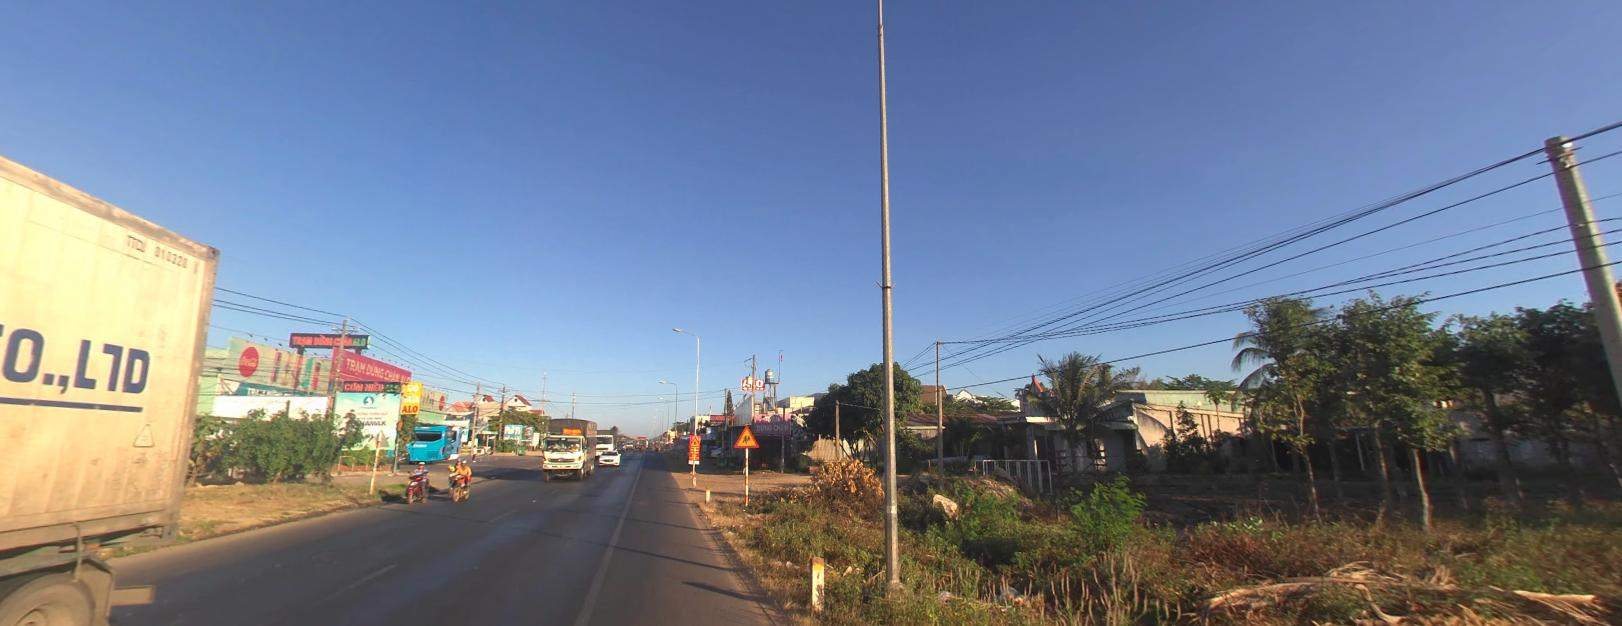Nguy hiem: (732, 423, 760, 448), (732, 422, 759, 447), (735, 425, 759, 447), (688, 435, 700, 445)
